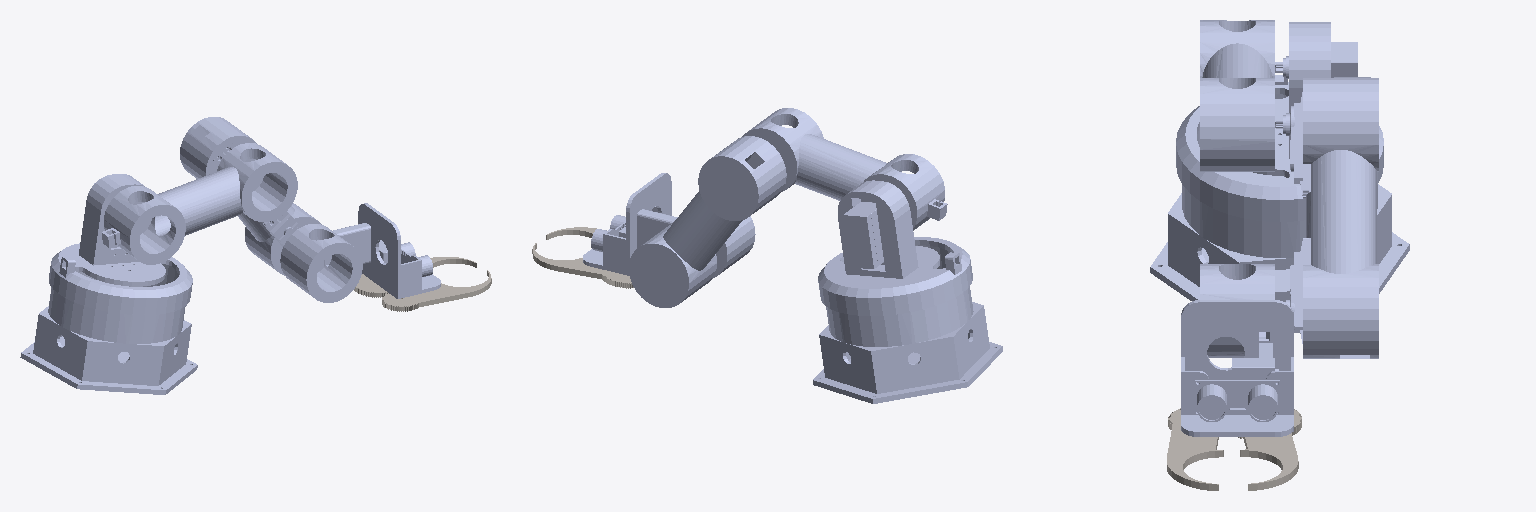
The robot description file, URDF, robot "tangan titan urdf fak":
<?xml version="1.0" encoding="utf-8"?>
<!-- This URDF was automatically created by SolidWorks to URDF Exporter! Originally created by [author] ([email redacted]) 
     Commit Version: 1.6.0-4-g7f85cfe  Build Version: 1.6.7995.38578
     For more information, please see http://wiki.ros.org/sw_urdf_exporter -->
<robot
  name="tangan titan urdf fak">
  <link
    name="base_link">
    <inertial>
      <origin
        xyz="0.00452278705202603 -0.000309862305232445 0.0340101482955649"
        rpy="0 0 0" />
      <mass
        value="0.15690853286764" />
      <inertia
        ixx="0.000238761864794462"
        ixy="1.45222853637776E-06"
        ixz="1.67899605611514E-05"
        iyy="0.000229112300024644"
        iyz="-1.27338941808698E-07"
        izz="0.000353499341449016" />
    </inertial>
    <visual>
      <origin
        xyz="0 0 0"
        rpy="0 0 0" />
      <geometry>
        <mesh
          filename="package://tangan titan urdf fak/meshes/base_link.STL" />
      </geometry>
      <material
        name="">
        <color
          rgba="0.792156862745098 0.819607843137255 0.933333333333333 1" />
      </material>
    </visual>
    <collision>
      <origin
        xyz="0 0 0"
        rpy="0 0 0" />
      <geometry>
        <mesh
          filename="package://tangan titan urdf fak/meshes/base_link.STL" />
      </geometry>
    </collision>
  </link>
  <link
    name="link1">
    <inertial>
      <origin
        xyz="0.00255028347238319 0.0132973747425095 0.0184421640517084"
        rpy="0 0 0" />
      <mass
        value="0.110824441482646" />
      <inertia
        ixx="8.64134737598868E-05"
        ixy="-1.58030386482057E-06"
        ixz="-4.11903180142898E-08"
        iyy="9.13032174368967E-05"
        iyz="-8.58694398732669E-06"
        izz="8.7285091317238E-05" />
    </inertial>
    <visual>
      <origin
        xyz="0 0 0"
        rpy="0 0 0" />
      <geometry>
        <mesh
          filename="package://tangan titan urdf fak/meshes/link1.STL" />
      </geometry>
      <material
        name="">
        <color
          rgba="0.792156862745098 0.819607843137255 0.933333333333333 1" />
      </material>
    </visual>
    <collision>
      <origin
        xyz="0 0 0"
        rpy="0 0 0" />
      <geometry>
        <mesh
          filename="package://tangan titan urdf fak/meshes/link1.STL" />
      </geometry>
    </collision>
  </link>
  <joint
    name="joint1"
    type="revolute">
    <origin
      xyz="0.012417 0 0.080043"
      rpy="0 0 0" />
    <parent
      link="base_link" />
    <child
      link="link1" />
    <axis
      xyz="-0.1533 0 -0.98818" />
    <limit
      lower="-3.14"
      upper="3.14"
      effort="1.08"
      velocity="7.48" />
  </joint>
  <link
    name="link2">
    <inertial>
      <origin
        xyz="0.0492824186282574 0.0212736223698067 -0.00549613379458742"
        rpy="0 0 0" />
      <mass
        value="0.120061924722487" />
      <inertia
        ixx="4.49595784632651E-05"
        ixy="3.2451062887462E-08"
        ixz="3.07860928616426E-05"
        iyy="0.000284291366698506"
        iyz="-1.37318792010264E-07"
        izz="0.000275797443406489" />
    </inertial>
    <visual>
      <origin
        xyz="0 0 0"
        rpy="0 0 0" />
      <geometry>
        <mesh
          filename="package://tangan titan urdf fak/meshes/link2.STL" />
      </geometry>
      <material
        name="">
        <color
          rgba="0.792156862745098 0.819607843137255 0.933333333333333 1" />
      </material>
    </visual>
    <collision>
      <origin
        xyz="0 0 0"
        rpy="0 0 0" />
      <geometry>
        <mesh
          filename="package://tangan titan urdf fak/meshes/link2.STL" />
      </geometry>
    </collision>
  </link>
  <joint
    name="joint2"
    type="revolute">
    <origin
      xyz="0.0063981 0 0.041738"
      rpy="-3.1416 0 0" />
    <parent
      link="link1" />
    <child
      link="link2" />
    <axis
      xyz="0 -1 0" />
    <limit
      lower="-3.14"
      upper="3.14"
      effort="1.08"
      velocity="7.48" />
  </joint>
  <link
    name="link3">
    <inertial>
      <origin
        xyz="0.028743428881696 0.0301358791822174 -0.0409185676281348"
        rpy="0 0 0" />
      <mass
        value="0.207694596865866" />
      <inertia
        ixx="0.000248085819606119"
        ixy="-4.75883918191281E-12"
        ixz="0.000134782439659382"
        iyy="0.000347203357162288"
        iyz="-6.50862367388947E-12"
        izz="0.000149670240067763" />
    </inertial>
    <visual>
      <origin
        xyz="0 0 0"
        rpy="0 0 0" />
      <geometry>
        <mesh
          filename="package://tangan titan urdf fak/meshes/link3.STL" />
      </geometry>
      <material
        name="">
        <color
          rgba="0.792156862745098 0.819607843137255 0.933333333333333 1" />
      </material>
    </visual>
    <collision>
      <origin
        xyz="0 0 0"
        rpy="0 0 0" />
      <geometry>
        <mesh
          filename="package://tangan titan urdf fak/meshes/link3.STL" />
      </geometry>
    </collision>
  </link>
  <joint
    name="joint3"
    type="revolute">
    <origin
      xyz="0.099149 0 -0.013017"
      rpy="3.1416 0 0" />
    <parent
      link="link2" />
    <child
      link="link3" />
    <axis
      xyz="0 1 0" />
    <limit
      lower="-3.14"
      upper="3.14"
      effort="1.08"
      velocity="7.48" />
  </joint>
  <link
    name="link4">
    <inertial>
      <origin
        xyz="0.0267465889957309 -0.0205906528247407 -0.00631258362265814"
        rpy="0 0 0" />
      <mass
        value="0.0812289590440463" />
      <inertia
        ixx="3.43752148435915E-05"
        ixy="6.45445258213866E-07"
        ixz="1.14992448998965E-05"
        iyy="8.40416396795733E-05"
        iyz="-4.379843232919E-07"
        izz="8.22459416776943E-05" />
    </inertial>
    <visual>
      <origin
        xyz="0 0 0"
        rpy="0 0 0" />
      <geometry>
        <mesh
          filename="package://tangan titan urdf fak/meshes/link4.STL" />
      </geometry>
      <material
        name="">
        <color
          rgba="0.792156862745098 0.819607843137255 0.933333333333333 1" />
      </material>
    </visual>
    <collision>
      <origin
        xyz="0 0 0"
        rpy="0 0 0" />
      <geometry>
        <mesh
          filename="package://tangan titan urdf fak/meshes/link4.STL" />
      </geometry>
    </collision>
  </link>
  <joint
    name="joint4"
    type="revolute">
    <origin
      xyz="0.057487 0 -0.081837"
      rpy="0 0 0" />
    <parent
      link="link3" />
    <child
      link="link4" />
    <axis
      xyz="0 1 0" />
    <limit
      lower="-3.14"
      upper="3.14"
      effort="1.08"
      velocity="7.48" />
  </joint>
  <link
    name="gripmotor">
    <inertial>
      <origin
        xyz="0.021877840612331 -0.00253321983136626 0.00200000000000302"
        rpy="0 0 0" />
      <mass
        value="0.006998884373207" />
      <inertia
        ixx="4.28311296511578E-07"
        ixy="4.15842592335031E-07"
        ixz="-1.12496563307212E-21"
        iyy="3.51380881302541E-06"
        iyz="-2.40888152497742E-22"
        izz="3.9234564178751E-06" />
    </inertial>
    <visual>
      <origin
        xyz="0 0 0"
        rpy="0 0 0" />
      <geometry>
        <mesh
          filename="package://tangan titan urdf fak/meshes/gripmotor.STL" />
      </geometry>
      <material
        name="">
        <color
          rgba="0.776470588235294 0.756862745098039 0.737254901960784 1" />
      </material>
    </visual>
    <collision>
      <origin
        xyz="0 0 0"
        rpy="0 0 0" />
      <geometry>
        <mesh
          filename="package://tangan titan urdf fak/meshes/gripmotor.STL" />
      </geometry>
    </collision>
  </link>
  <joint
    name="joint5"
    type="continuous">
    <origin
      xyz="0.059 -0.04361 -0.039"
      rpy="0 0 0" />
    <parent
      link="link4" />
    <child
      link="gripmotor" />
    <axis
      xyz="0 0 1" />
    <limit
      lower="-3.14"
      upper="3.14"
      effort="0.21575"
      velocity="10.47" />
  </joint>
  <link
    name="end">
    <inertial>
      <origin
        xyz="-0.0606665452377065 -0.0141164389279597 0.00199999999999997"
        rpy="0 0 0" />
      <mass
        value="0.00699888437320699" />
      <inertia
        ixx="4.28311296511578E-07"
        ixy="4.15842592335031E-07"
        ixz="-1.12496563307212E-21"
        iyy="3.51380881302541E-06"
        iyz="-2.40888152497742E-22"
        izz="3.9234564178751E-06" />
    </inertial>
    <visual>
      <origin
        xyz="0 0 0"
        rpy="0 0 0" />
      <geometry>
        <mesh
          filename="package://tangan titan urdf fak/meshes/end.STL" />
      </geometry>
      <material
        name="">
        <color
          rgba="0.776470588235294 0.756862745098039 0.737254901960784 1" />
      </material>
    </visual>
    <collision>
      <origin
        xyz="0 0 0"
        rpy="0 0 0" />
      <geometry>
        <mesh
          filename="package://tangan titan urdf fak/meshes/end.STL" />
      </geometry>
    </collision>
  </link>
  <joint
    name="end"
    type="fixed">
    <origin
      xyz="0.082544 0.011583 0"
      rpy="0 0 0" />
    <parent
      link="gripmotor" />
    <child
      link="end" />
    <axis
      xyz="0 0 0" />
  </joint>
  <link
    name="grip2">
    <inertial>
      <origin
        xyz="0.0166358171371935 0.00273141134860435 0.0019627491535912"
        rpy="0 0 0" />
      <mass
        value="0.00824341290611818" />
      <inertia
        ixx="7.89666924646988E-07"
        ixy="-6.52620644645378E-07"
        ixz="-2.77448732349482E-09"
        iyy="4.4401047487339E-06"
        iyz="-5.62951884472498E-10"
        izz="5.20781211650544E-06" />
    </inertial>
    <visual>
      <origin
        xyz="0 0 0"
        rpy="0 0 0" />
      <geometry>
        <mesh
          filename="package://tangan titan urdf fak/meshes/grip2.STL" />
      </geometry>
      <material
        name="">
        <color
          rgba="0.776470588235294 0.756862745098039 0.737254901960784 1" />
      </material>
    </visual>
    <collision>
      <origin
        xyz="0 0 0"
        rpy="0 0 0" />
      <geometry>
        <mesh
          filename="package://tangan titan urdf fak/meshes/grip2.STL" />
      </geometry>
    </collision>
  </link>
  <joint
    name="grip2"
    type="prismatic">
    <origin
      xyz="0.059 -0.00871 -0.039"
      rpy="0 0 0" />
    <parent
      link="link4" />
    <child
      link="grip2" />
    <axis
      xyz="0 0 -1" />
    <limit
      lower="-3.14"
      upper="3.14"
      effort="0.21575"
      velocity="10.47" />
  </joint>
  <link
    name="end2">
    <inertial>
      <origin
        xyz="-0.0655848651188826 0.0108488930606347 0.00196274915358824"
        rpy="0 0 0" />
      <mass
        value="0.00824341290611818" />
      <inertia
        ixx="7.89666924646988E-07"
        ixy="-6.52620644645378E-07"
        ixz="-2.77448732349478E-09"
        iyy="4.4401047487339E-06"
        iyz="-5.62951884472458E-10"
        izz="5.20781211650545E-06" />
    </inertial>
    <visual>
      <origin
        xyz="0 0 0"
        rpy="0 0 0" />
      <geometry>
        <mesh
          filename="package://tangan titan urdf fak/meshes/end2.STL" />
      </geometry>
      <material
        name="">
        <color
          rgba="0.776470588235294 0.756862745098039 0.737254901960784 1" />
      </material>
    </visual>
    <collision>
      <origin
        xyz="0 0 0"
        rpy="0 0 0" />
      <geometry>
        <mesh
          filename="package://tangan titan urdf fak/meshes/end2.STL" />
      </geometry>
    </collision>
  </link>
  <joint
    name="end2"
    type="fixed">
    <origin
      xyz="0.0822206822560761 -0.00811748171203039 0"
      rpy="0 0 0" />
    <parent
      link="grip2" />
    <child
      link="end2" />
    <axis
      xyz="0 0 0" />
  </joint>
</robot>

--- What the picture shows (computed from the rendered views, not written in the file) ---
3 views of the same robot in one strip: view 1: azimuth 30°, elevation 25°; view 2: azimuth 150°, elevation 25°; view 3: azimuth 270°, elevation 25° (orthographic).
Model tangan titan urdf fak with 9 links and 8 joints (4 revolute, 1 continuous, 1 prismatic, 2 fixed), rooted at base_link, posed all joints at 0.
Visible links, largest first — view 1: base_link, link2, link4, link1, link3, end, gripmotor, grip2; view 2: base_link, link1, link3, link2, link4, grip2; view 3: link3, link4, link2, link1, base_link, grip2, gripmotor.
Boxes of the visible links, bbox=[...] form: base_link: bbox=[20, 264, 197, 394]; link2: bbox=[102, 143, 297, 264]; link4: bbox=[280, 203, 440, 302]; link1: bbox=[49, 174, 192, 314]; link3: bbox=[180, 117, 321, 275]; end: bbox=[382, 271, 490, 311]; gripmotor: bbox=[382, 270, 491, 306]; grip2: bbox=[354, 257, 476, 297]; base_link: bbox=[813, 245, 1002, 403]; link1: bbox=[818, 180, 972, 315]; link3: bbox=[629, 136, 786, 307]; link2: bbox=[742, 108, 947, 230]; link4: bbox=[583, 173, 755, 278]; grip2: bbox=[533, 243, 633, 288]; link3: bbox=[1275, 77, 1378, 358]; link4: bbox=[1181, 264, 1293, 436]; link2: bbox=[1200, 20, 1274, 171]; link1: bbox=[1176, 22, 1383, 221]; base_link: bbox=[1150, 94, 1409, 301]; grip2: bbox=[1240, 409, 1301, 490]; gripmotor: bbox=[1167, 409, 1223, 490].
Bounding box of the posed robot: 0.3808 × 0.1369 × 0.1697 m (x, y, z).
9 mesh visuals loaded from 9 distinct referenced files (9 binary STL).
